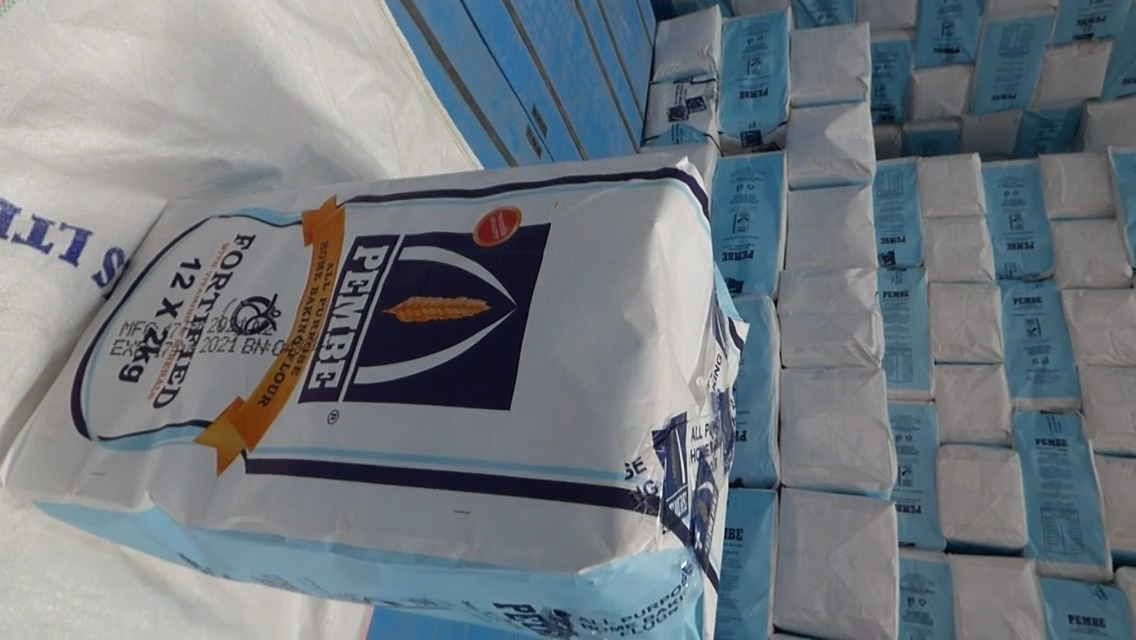wheat_flour_blue_label: (14, 159, 736, 640)
